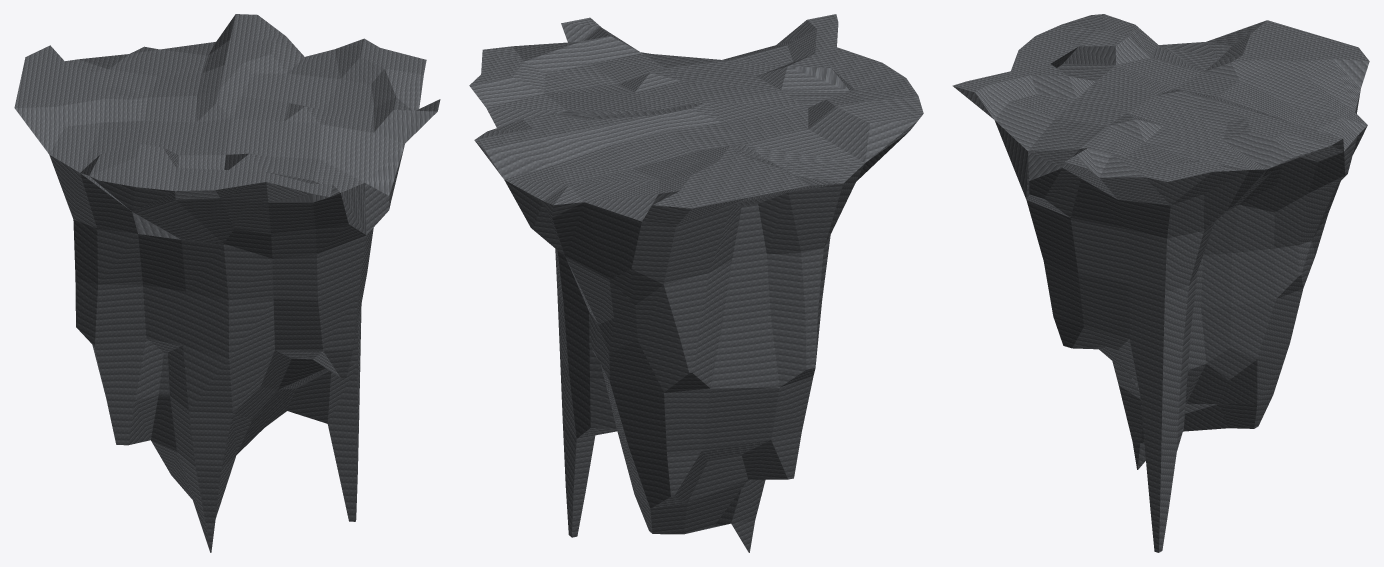
The model's file is FloatingRock1.fbx.
3 renders of one model, left to right at view 1: azimuth 30°, elevation 25°; view 2: azimuth 150°, elevation 25°; view 3: azimuth 270°, elevation 25°, orthographic. The views are drawn at different scales.
Parts seen in each view (by area): view 1: Landscape.010; view 2: Landscape.010; view 3: Landscape.010.
Boxes of the visible parts, left/top/right/bottom form: Landscape.010: left=14, top=14, right=440, bottom=552; Landscape.010: left=469, top=14, right=923, bottom=552; Landscape.010: left=952, top=14, right=1369, bottom=552.
Bounding box in the file's own units: 7494 × 8546 × 7869.
